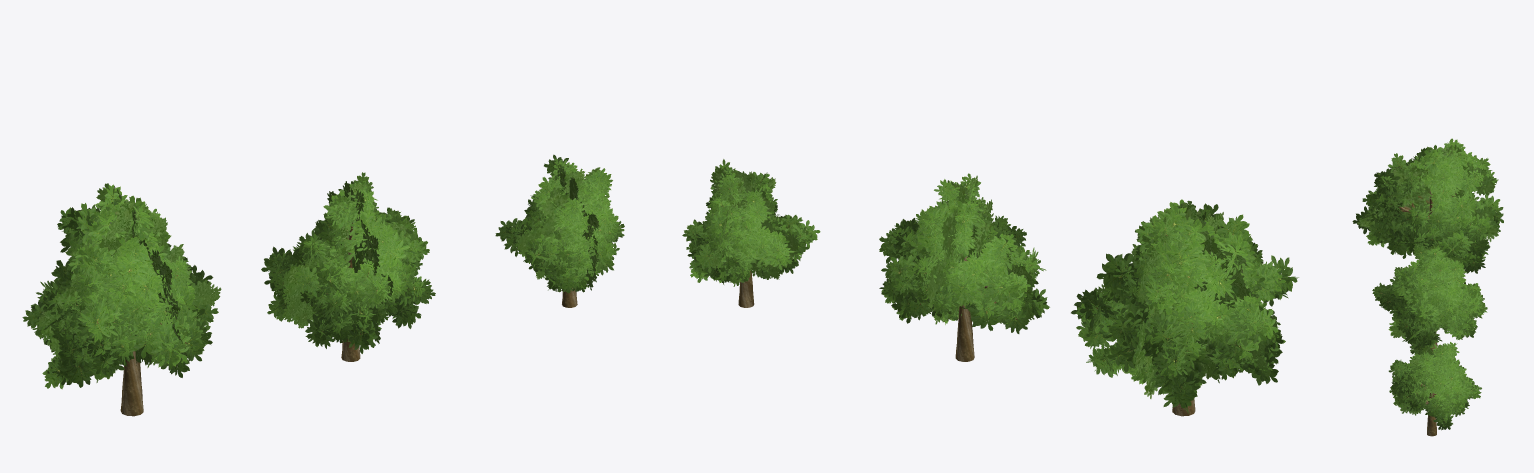
The model's file is tree_walnut.glb.
3 views of the same model, side by side, from view 1: azimuth 30°, elevation 25°; view 2: azimuth 150°, elevation 25°; view 3: azimuth 270°, elevation 25° (orthographic). The views are drawn at different scales.
Parts seen in each view (by area): view 1: walnut_v0_LOD1_leaves, walnut_v1_LOD1_leaves, walnut_v0_LOD0_leaves, walnut_v1_LOD0_leaves, walnut_v2_LOD1_leaves, walnut_v0_LOD2_impostor, walnut_v2_LOD0_leaves, walnut_v1_LOD2_impostor, walnut_v2_LOD2_impostor, walnut_v0_LOD0_log; view 2: walnut_v0_LOD1_leaves, walnut_v1_LOD1_leaves, walnut_v0_LOD0_leaves, walnut_v2_LOD1_leaves, walnut_v1_LOD0_leaves, walnut_v0_LOD2_impostor, walnut_v2_LOD0_leaves, walnut_v1_LOD2_impostor, walnut_v2_LOD2_impostor; view 3: walnut_v0_LOD1_leaves, walnut_v1_LOD1_leaves, walnut_v0_LOD0_leaves, walnut_v1_LOD0_leaves, walnut_v2_LOD1_leaves, walnut_v2_LOD0_leaves, walnut_v0_LOD2_impostor, walnut_v1_LOD2_impostor, walnut_v2_LOD2_impostor.
Part boxes in pixels (x1,y1,x2,y2): walnut_v0_LOD1_leaves: (22, 183, 218, 389); walnut_v1_LOD1_leaves: (261, 172, 435, 353); walnut_v0_LOD0_leaves: (28, 188, 211, 383); walnut_v1_LOD0_leaves: (266, 176, 431, 347); walnut_v2_LOD1_leaves: (495, 154, 624, 293); walnut_v0_LOD2_impostor: (35, 186, 221, 412); walnut_v2_LOD0_leaves: (501, 158, 619, 292); walnut_v1_LOD2_impostor: (281, 180, 419, 344); walnut_v2_LOD2_impostor: (515, 161, 624, 299); walnut_v0_LOD0_log: (121, 335, 142, 404); walnut_v0_LOD1_leaves: (1071, 199, 1298, 413); walnut_v1_LOD1_leaves: (879, 179, 1049, 333); walnut_v0_LOD0_leaves: (1076, 205, 1292, 404); walnut_v2_LOD1_leaves: (682, 159, 820, 285); walnut_v1_LOD0_leaves: (879, 173, 1044, 328); walnut_v0_LOD2_impostor: (1095, 200, 1280, 412); walnut_v2_LOD0_leaves: (686, 163, 814, 282); walnut_v1_LOD2_impostor: (904, 175, 1034, 353); walnut_v2_LOD2_impostor: (697, 167, 800, 298); walnut_v0_LOD1_leaves: (1352, 138, 1503, 273); walnut_v1_LOD1_leaves: (1372, 245, 1487, 354); walnut_v0_LOD0_leaves: (1357, 142, 1499, 273); walnut_v1_LOD0_leaves: (1374, 243, 1484, 355); walnut_v2_LOD1_leaves: (1388, 342, 1481, 430); walnut_v2_LOD0_leaves: (1392, 344, 1478, 427); walnut_v0_LOD2_impostor: (1357, 144, 1500, 258); walnut_v1_LOD2_impostor: (1374, 243, 1484, 338); walnut_v2_LOD2_impostor: (1392, 343, 1479, 415).
Size of the model in its own units: 34.19 by 18.38 by 12.24.
4 materials, 4 textured.
